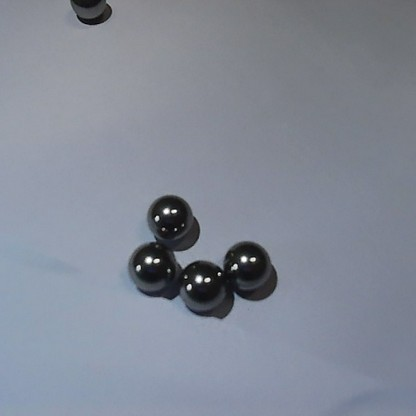ironball: (138, 188, 196, 246), (121, 240, 179, 296), (222, 236, 273, 296), (180, 258, 229, 318), (67, 0, 116, 25)
